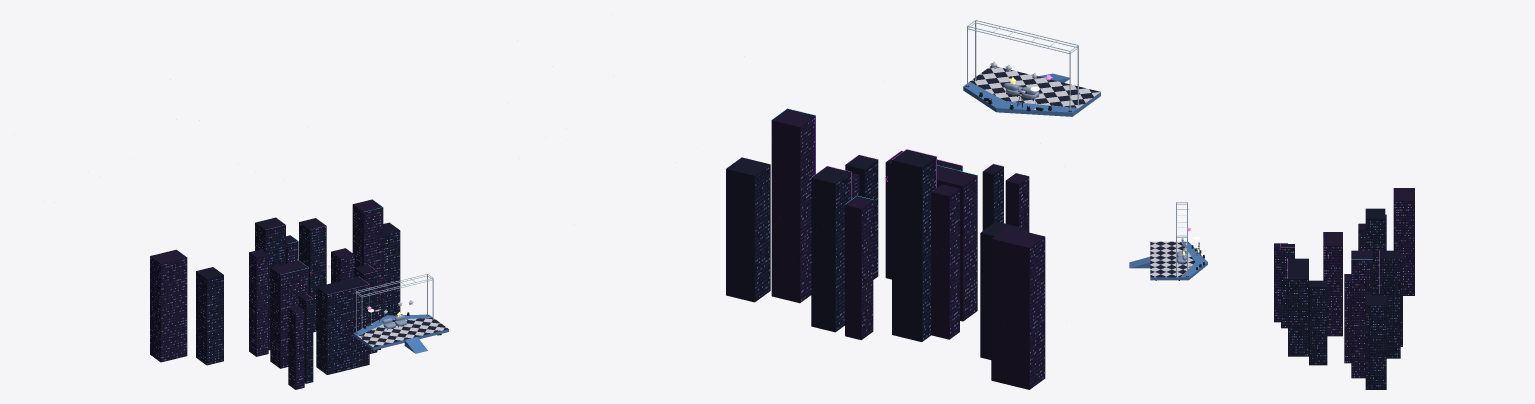
Rendered from KTV_Complete_Open_Stage.glb.
3 views of the same model, side by side, from view 1: azimuth 30°, elevation 25°; view 2: azimuth 150°, elevation 25°; view 3: azimuth 270°, elevation 25° (orthographic). The views are drawn at different scales.
Visible parts, largest first — view 1: City_05_mass_APPROX, City_12_mass_APPROX, City_04_mass_APPROX, City_11_mass_APPROX, City_10_mass_APPROX, City_02_mass_APPROX, City_07_mass_APPROX, City_13_mass_APPROX, City_05_window_meshes, City_03_mass_APPROX, City_12_window_meshes, City_00_mass_APPROX (+11 smaller); view 2: City_12_mass_APPROX, City_10_mass_APPROX, City_03_mass_APPROX, City_13_mass_APPROX, City_07_mass_APPROX, City_02_mass_APPROX, City_06_mass_APPROX, City_04_mass_APPROX, City_11_mass_APPROX, City_09_mass_APPROX, City_00_mass_APPROX, City_01_mass_APPROX (+8 smaller); view 3: City_10_mass_APPROX, City_13_mass_APPROX, City_05_mass_APPROX, City_07_mass_APPROX, City_12_mass_APPROX, City_04_mass_APPROX, City_09_mass_APPROX, City_03_mass_APPROX, City_10_window_meshes, City_08_mass_APPROX, City_01_mass_APPROX, City_13_window_meshes (+7 smaller).
Part boxes in pixels (<box>): City_05_mass_APPROX: <box>316,276,369,374</box>; City_12_mass_APPROX: <box>150,249,187,362</box>; City_04_mass_APPROX: <box>270,260,308,368</box>; City_11_mass_APPROX: <box>196,267,223,365</box>; City_10_mass_APPROX: <box>352,199,383,319</box>; City_02_mass_APPROX: <box>249,249,268,356</box>; City_07_mass_APPROX: <box>299,218,326,332</box>; City_13_mass_APPROX: <box>383,222,400,316</box>; City_05_window_meshes: <box>316,286,368,373</box>; City_03_mass_APPROX: <box>255,217,285,350</box>; City_12_window_meshes: <box>150,258,186,360</box>; City_00_mass_APPROX: <box>288,305,304,389</box>; City_12_mass_APPROX: <box>991,227,1045,389</box>; City_10_mass_APPROX: <box>771,108,815,303</box>; City_03_mass_APPROX: <box>892,149,936,341</box>; City_13_mass_APPROX: <box>726,157,770,302</box>; City_07_mass_APPROX: <box>811,166,851,332</box>; City_02_mass_APPROX: <box>931,184,959,339</box>; City_06_mass_APPROX: <box>845,196,873,340</box>; City_04_mass_APPROX: <box>937,165,977,321</box>; City_11_mass_APPROX: <box>980,221,1020,359</box>; City_09_mass_APPROX: <box>845,155,878,279</box>; City_00_mass_APPROX: <box>1005,173,1029,232</box>; City_01_mass_APPROX: <box>982,164,1003,230</box>; City_10_mass_APPROX: <box>1351,250,1372,378</box>; City_13_mass_APPROX: <box>1365,295,1386,389</box>; City_05_mass_APPROX: <box>1288,258,1308,356</box>; City_07_mass_APPROX: <box>1379,250,1400,358</box>; City_12_mass_APPROX: <box>1393,188,1414,295</box>; City_04_mass_APPROX: <box>1323,232,1342,336</box>; City_09_mass_APPROX: <box>1309,280,1327,365</box>; City_03_mass_APPROX: <box>1365,208,1385,295</box>; City_10_window_meshes: <box>1352,261,1371,377</box>; City_08_mass_APPROX: <box>1344,274,1351,363</box>; City_01_mass_APPROX: <box>1281,244,1294,328</box>; City_13_window_meshes: <box>1366,306,1385,388</box>.
Size of the model in its own units: 65.04 by 36.93 by 55.51.
Materials: 22 (2 with a texture image).
